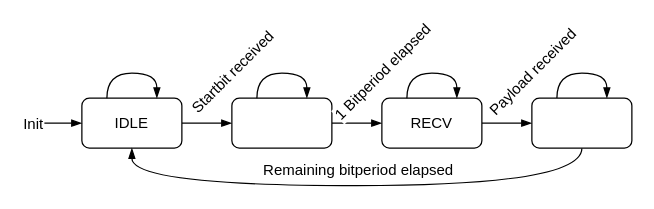
This 654x209 diagram has some shape labels left out. The shapes that lost their labels are listed below. From the top down, each one's centre as x and y in pixels, then its label:
At point 281,122: "START".
At point 581,122: "STOP".
